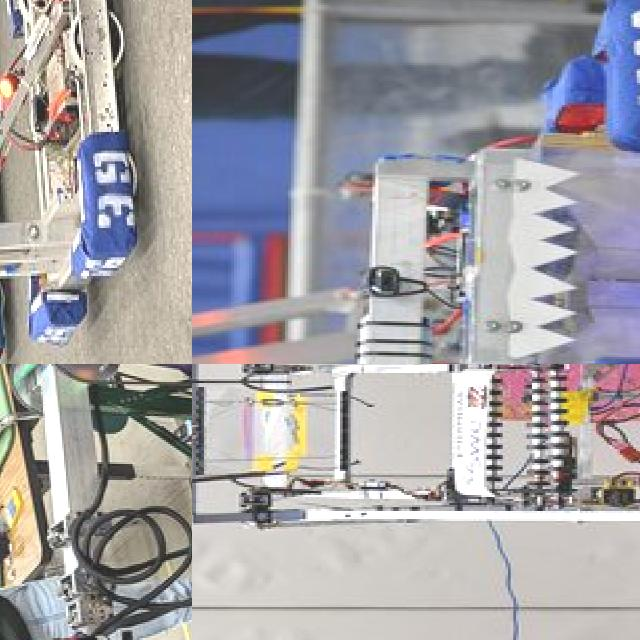FRC-Robots: (306, 0, 640, 364), (192, 364, 640, 596), (0, 0, 136, 362), (15, 364, 192, 640)
